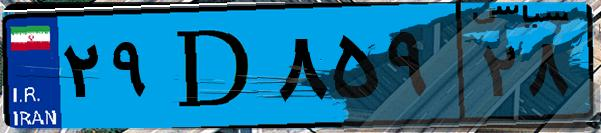2: (57, 26, 110, 100), (475, 38, 525, 113)
5: (330, 28, 385, 110)
8: (270, 28, 330, 110), (525, 38, 570, 115)
9: (385, 28, 445, 110), (110, 28, 158, 98)
D: (158, 12, 270, 120)
